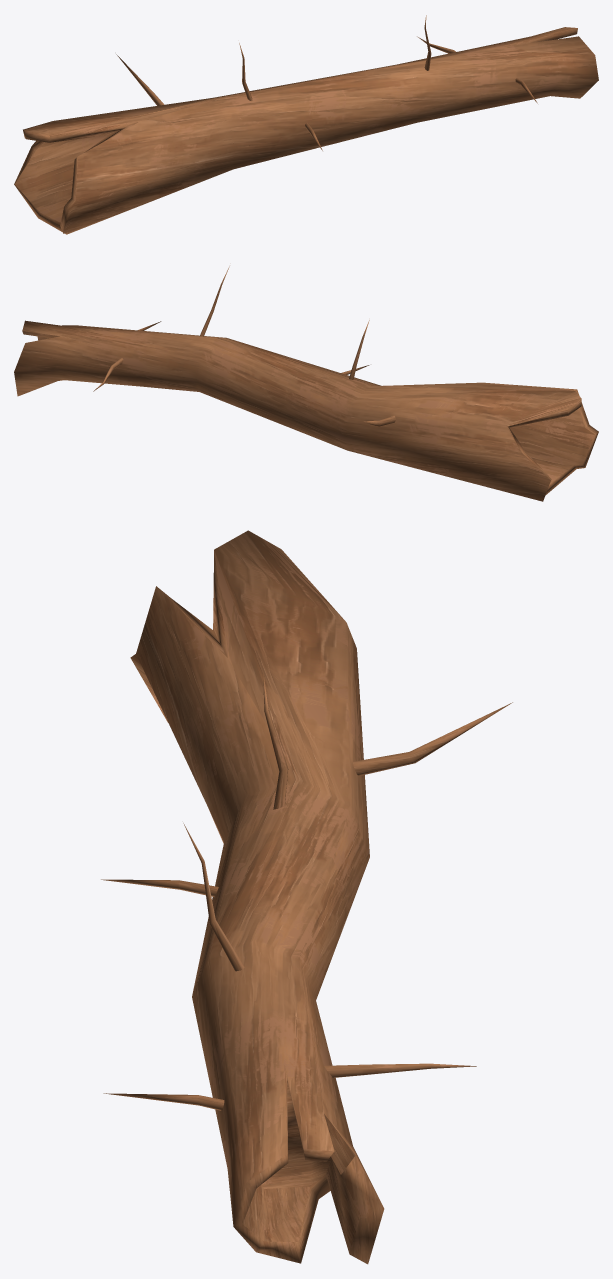
File: Tree_Broken_1.fbx
3 views of the same model, one above another, from view 1: azimuth 30°, elevation 25°; view 2: azimuth 150°, elevation 25°; view 3: azimuth 270°, elevation 25° (orthographic). The views are drawn at different scales.
Visible parts, largest first — view 1: Tree_Broken_1; view 2: Tree_Broken_1; view 3: Tree_Broken_1.
Boxes of the visible parts, x1,y1,x2,y2 form: Tree_Broken_1: (14, 15, 598, 234); Tree_Broken_1: (14, 266, 598, 501); Tree_Broken_1: (101, 530, 512, 1264).
Bounding box in the file's own units: 5.93 × 1.47 × 1.96.
